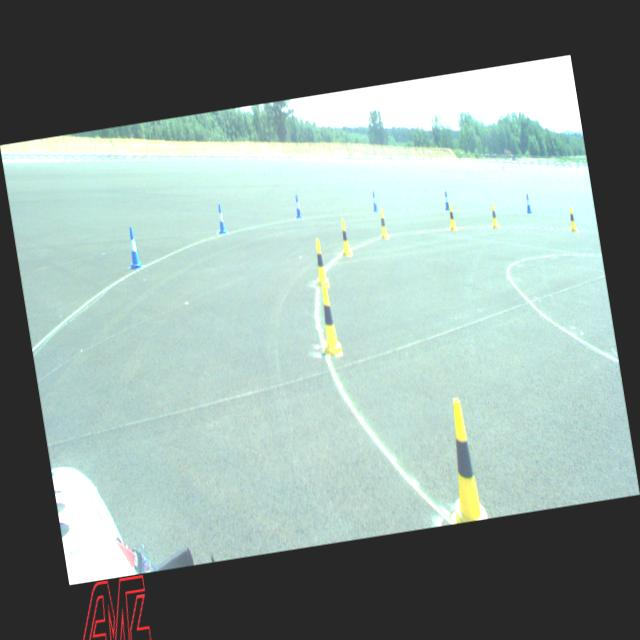blue_cone: (124, 227, 142, 270), (215, 204, 227, 234), (293, 194, 302, 218), (442, 190, 450, 212), (524, 194, 532, 214), (371, 192, 378, 212)
yellow_cone: (433, 396, 488, 524), (314, 282, 342, 358), (311, 238, 330, 288), (338, 218, 352, 256), (377, 208, 388, 238), (446, 203, 457, 230), (567, 207, 577, 231), (488, 204, 498, 228)
